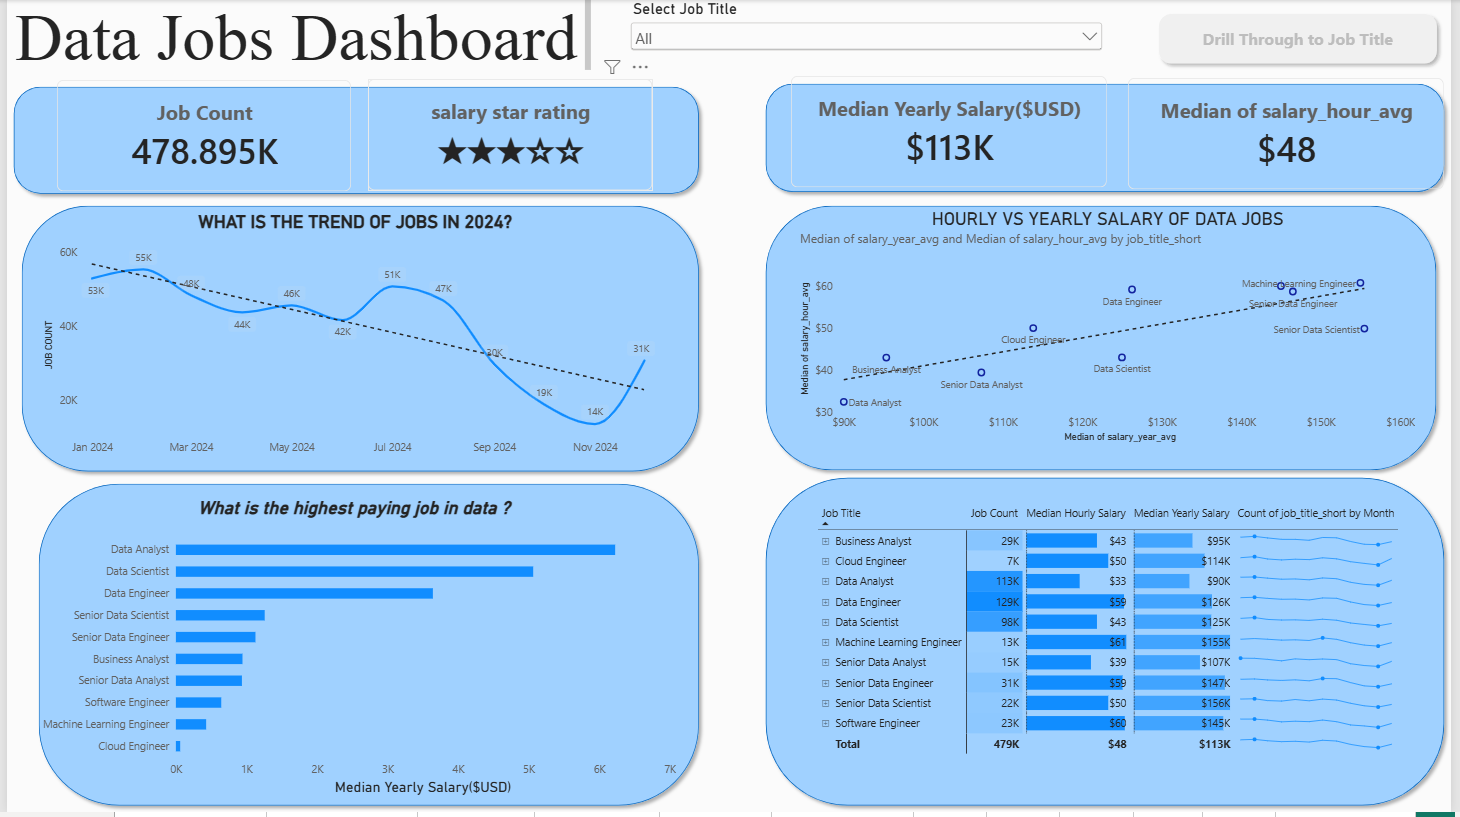

The dashboard page shown, as its layout file describes it:
{"tool":"powerbi","page":{"name":"data jobs  dashbaord","canvas":[1920,1080],"ordinal":0},"visuals":[{"type":"group","id":"g1","title":"background","box":[0,101.9,1920,978.6],"z":0},{"type":"shape","box":[0,105.4,929.2,160.1],"z":0,"group":"g1"},{"type":"textbox","box":[10.6,0,766.1,97.1],"z":1000},{"type":"shape","box":[999.6,101.9,920.4,161.9],"z":1000,"group":"g1"},{"type":"slicer","fields":{"Values":["job_postings_flat.job_title_short"]},"box":[824.6,0,636.6,75.1],"z":2000},{"type":"shape","box":[10.6,263.8,918.6,371.3],"z":2000,"group":"g1"},{"type":"cardVisual","fields":{"Data":["CountNonNull(job_postings_flat.job_title_short)"]},"box":[66.6,105.8,391.8,148.9],"z":3000},{"type":"shape","box":[999.6,264,909.8,369.7],"z":3000,"group":"g1"},{"type":"cardVisual","fields":{"Data":["job_postings_flat.salary  star rating"]},"box":[480.4,105.6,378.2,148.7],"z":4000},{"type":"shape","box":[33.1,634.5,896,446],"z":4000,"group":"g1"},{"type":"cardVisual","fields":{"Data":["Median(job_postings_flat.salary_year_avg)"]},"box":[1043.2,101.5,420.1,148.7],"z":5000},{"type":"shape","box":[999.6,626.3,920.4,454],"z":5000,"group":"g1"},{"type":"cardVisual","fields":{"Data":["Median(job_postings_flat.salary_hour_avg)"]},"box":[1490.7,103.2,420.1,148.7],"z":6000},{"type":"barChart","title":"What is the  highest paying job in data ?","fields":{"Category":["job_postings_flat.job_title_short"],"Y":["CountNonNull(job_postings_flat.salary_year_avg)"]},"box":[18.3,647.2,886.8,425.9],"z":7000},{"type":"lineChart","title":"WHAT IS  THE  TREND OF JOBS IN 2024?","fields":{"Y":["CountNonNull(job_postings_flat.job_title_short)"],"Category":["job_postings_flat.job_posted_date.Variation.Date Hierarchy.Year","job_postings_flat.job_posted_date.Variation.Date Hierarchy.Quarter","job_postings_flat.job_posted_date.Variation.Date Hierarchy.Month","job_postings_flat.job_posted_date.Variation.Date Hierarchy.Day"]},"box":[33.4,267.5,860.6,359],"z":8000},{"type":"scatterChart","title":"HOURLY VS YEARLY SALARY OF DATA JOBS","fields":{"X":["Median(job_postings_flat.salary_year_avg)"],"Y":["Median(job_postings_flat.salary_hour_avg)"],"Series":["job_postings_flat.job_title_short"]},"box":[1038.3,264,850.2,341.1],"z":9000},{"type":"pivotTable","fields":{"Rows":["job_postings_flat.job_title_short","job_postings_flat.job_posted_date.Variation.Date Hierarchy.Quarter"],"Values":["CountNonNull(job_postings_flat.job_title_short)","Median(job_postings_flat.salary_hour_avg)","Median(job_postings_flat.salary_year_avg)","SparklineData(CountNonNull(job_postings_flat.job_title_short)_[job_postings_flat.job_posted_date.Variation.Date Hierarch"]},"box":[1063.2,653.9,856.8,425.9],"z":10000},{"type":"actionButton","box":[1522.3,9.8,387.9,84.2],"z":11000}]}

Visuals, with their boxes in screenshot pixels (x1, y1, x2, y2), scaled from the page's 1920x1080 canvas onto the 1460x817 screenshot:
"background" group: select_region(0, 77, 1459, 816)
shape: select_region(0, 80, 707, 201)
textbox: select_region(8, 0, 591, 73)
shape: select_region(760, 77, 1459, 200)
slicer - job_postings_flat.job_title_short: select_region(627, 0, 1111, 57)
shape: select_region(8, 200, 707, 480)
cardVisual - CountNonNull(job_postings_flat.job_title_short): select_region(51, 80, 349, 193)
shape: select_region(760, 200, 1452, 479)
cardVisual - job_postings_flat.salary  star rating: select_region(365, 80, 653, 192)
shape: select_region(25, 480, 707, 816)
cardVisual - Median(job_postings_flat.salary_year_avg): select_region(793, 77, 1113, 189)
shape: select_region(760, 474, 1459, 816)
cardVisual - Median(job_postings_flat.salary_hour_avg): select_region(1134, 78, 1453, 191)
"What is the  highest paying job in data ?" barChart: select_region(14, 490, 688, 812)
"WHAT IS  THE  TREND OF JOBS IN 2024?" lineChart: select_region(25, 202, 680, 474)
"HOURLY VS YEARLY SALARY OF DATA JOBS" scatterChart: select_region(790, 200, 1436, 458)
pivotTable - job_postings_flat.job_title_short x job_postings_flat.job_posted_date.Variation.Date Hierarchy.Quarter: select_region(808, 495, 1459, 816)
actionButton: select_region(1158, 7, 1453, 71)
